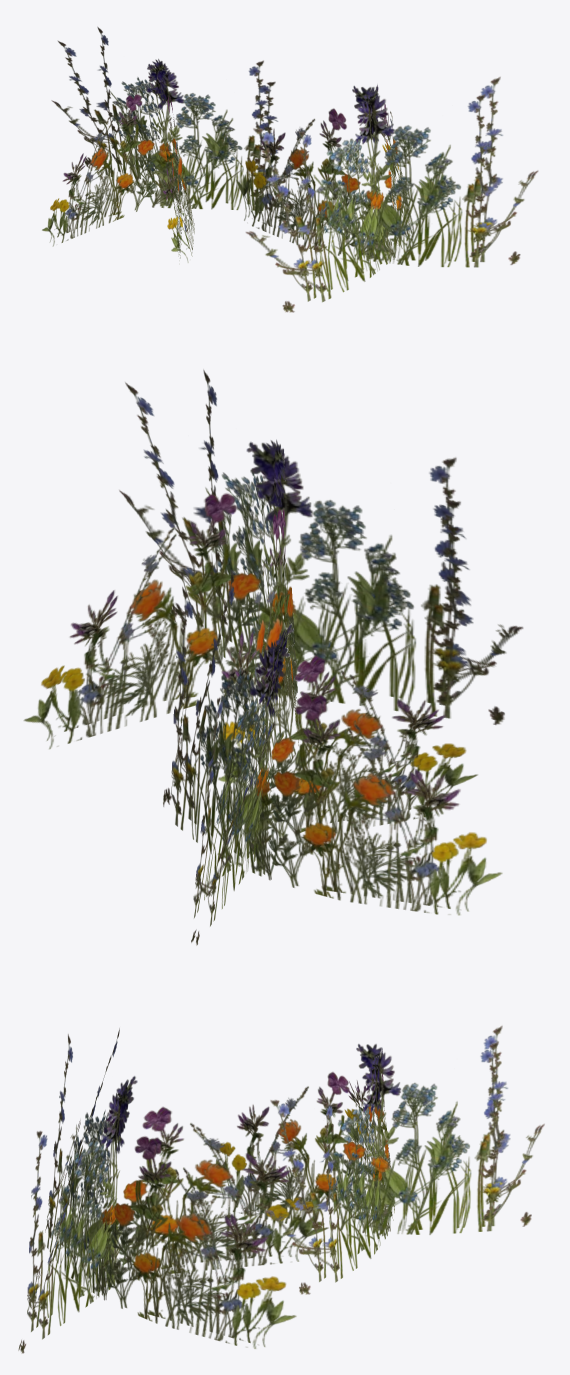
File: grass_flowers01.glb
The picture shows the model from 3 angles, top to bottom: view 1: azimuth 30°, elevation 25°; view 2: azimuth 150°, elevation 25°; view 3: azimuth 270°, elevation 25°; orthographic projection. The views are drawn at different scales.
Parts seen in each view (by area): view 1: Grass_Flowers01_LOD0; view 2: Grass_Flowers01_LOD0; view 3: Grass_Flowers01_LOD0.
Part boxes in pixels (left/top/right/bottom): Grass_Flowers01_LOD0: left=42, top=27, right=538, bottom=312; Grass_Flowers01_LOD0: left=23, top=369, right=523, bottom=945; Grass_Flowers01_LOD0: left=18, top=1026, right=544, bottom=1353.
Size of the model in its own units: 2.75 by 1.21 by 2.58.
Materials: 1 (1 with a texture image).
